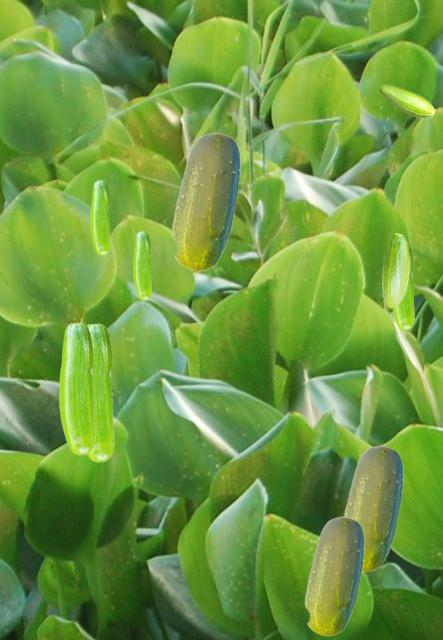cucumber: (171, 132, 239, 270), (343, 445, 402, 571), (304, 516, 363, 635), (59, 322, 94, 454), (87, 323, 113, 461), (382, 233, 408, 307), (379, 84, 434, 117), (392, 243, 413, 329), (90, 180, 109, 254), (133, 231, 150, 299)
